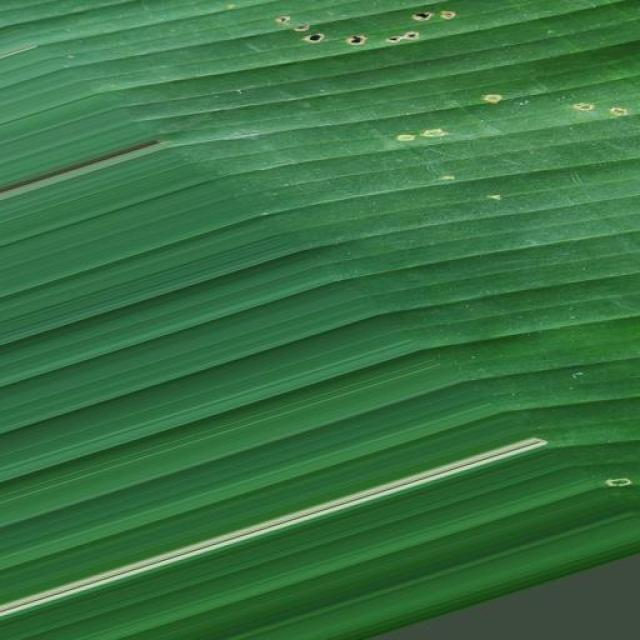Black_rot: (120, 0, 640, 241)
